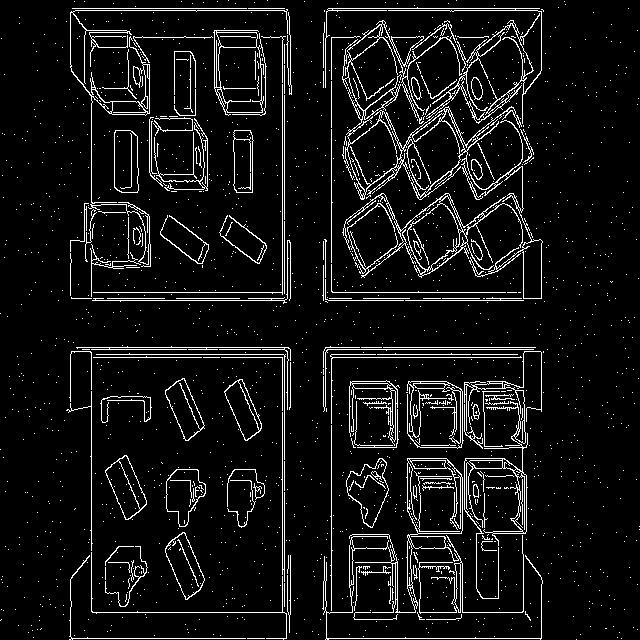Battery: (105, 455, 148, 520), (166, 532, 204, 600), (165, 378, 205, 441), (161, 215, 209, 266), (166, 469, 206, 528), (224, 381, 262, 441), (220, 215, 266, 264), (476, 534, 499, 599), (114, 130, 138, 192), (174, 51, 196, 116), (102, 396, 151, 424), (234, 131, 252, 192)
Pump: (71, 12, 150, 115), (462, 21, 534, 122), (405, 103, 470, 200), (405, 21, 466, 122), (342, 20, 402, 121), (466, 111, 534, 194), (465, 194, 532, 276), (344, 110, 402, 199), (404, 194, 464, 276), (344, 194, 401, 276), (408, 535, 462, 619), (214, 30, 266, 115), (466, 459, 526, 532), (86, 202, 150, 269), (465, 381, 528, 449), (151, 118, 208, 191), (349, 536, 398, 620), (408, 459, 461, 531), (408, 381, 461, 448), (349, 381, 398, 448)
Regulator: (105, 546, 148, 608), (166, 469, 206, 528), (228, 469, 265, 528)
Sensor: (348, 458, 389, 528)
